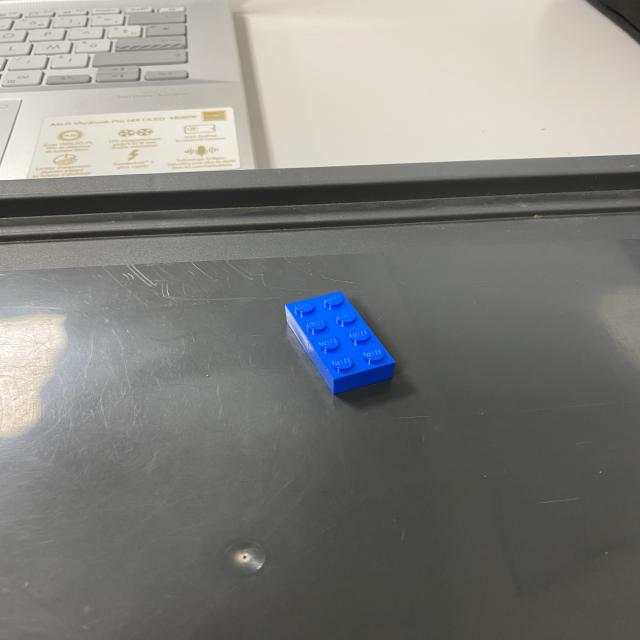C4x2x1: (282, 293, 398, 381), (338, 364, 398, 395)
